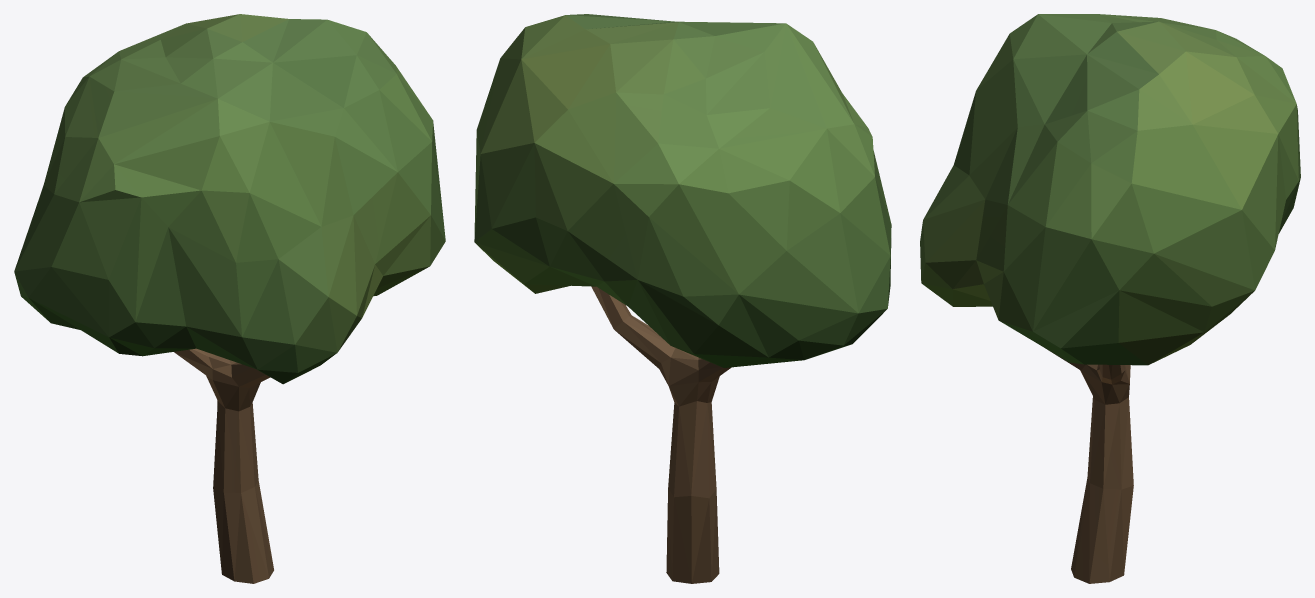
Rendered from Tree_03.glb.
3 renders of one model, left to right at view 1: azimuth 30°, elevation 25°; view 2: azimuth 150°, elevation 25°; view 3: azimuth 270°, elevation 25°, orthographic. The views are drawn at different scales.
Visible parts, largest first — view 1: Tree_03_LOD0; view 2: Tree_03_LOD0; view 3: Tree_03_LOD0.
Part boxes in pixels (left/top/right/bottom): Tree_03_LOD0: left=14, top=14, right=445, bottom=583; Tree_03_LOD0: left=474, top=14, right=891, bottom=583; Tree_03_LOD0: left=920, top=14, right=1300, bottom=583.
Bounding box in the file's own units: 3.78 × 4.95 × 3.13.
